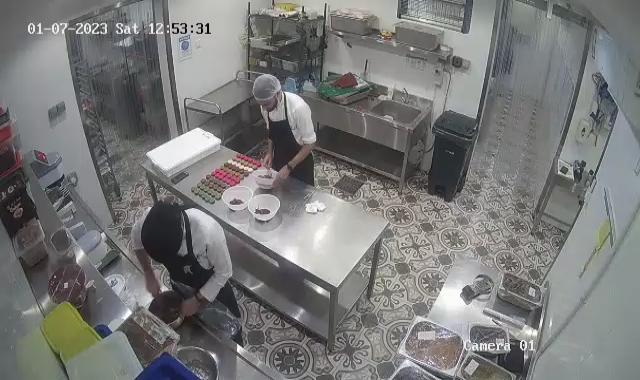hairnet: (252, 74, 282, 107)
no_hairnet: (140, 197, 184, 263)
